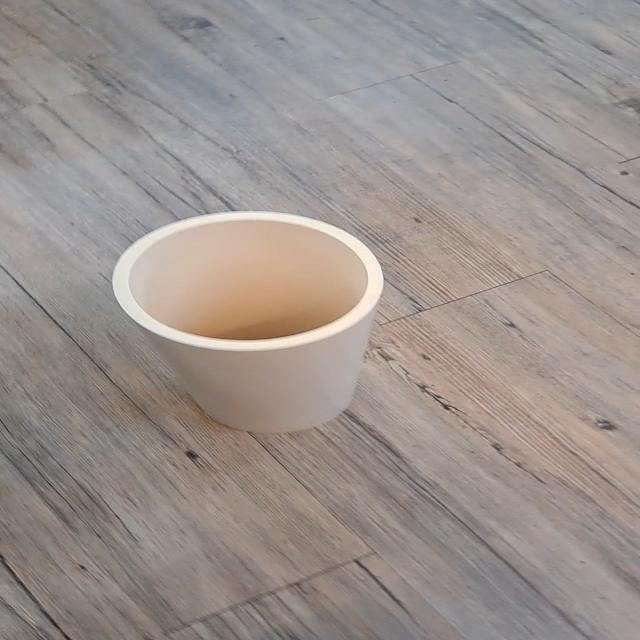CORAL: (86, 194, 412, 442)
